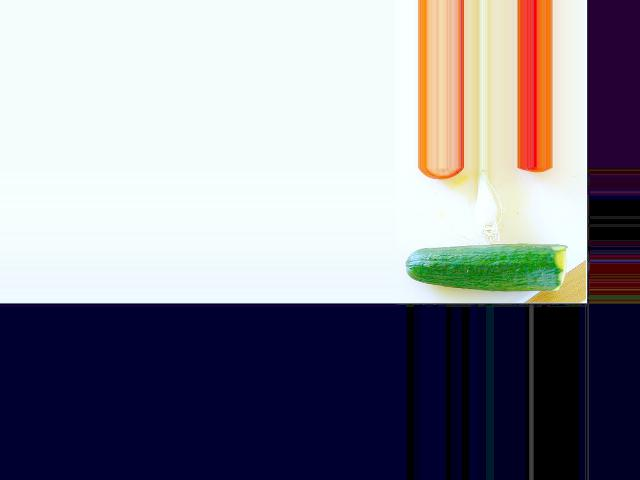cucumber: (404, 244, 567, 292)
